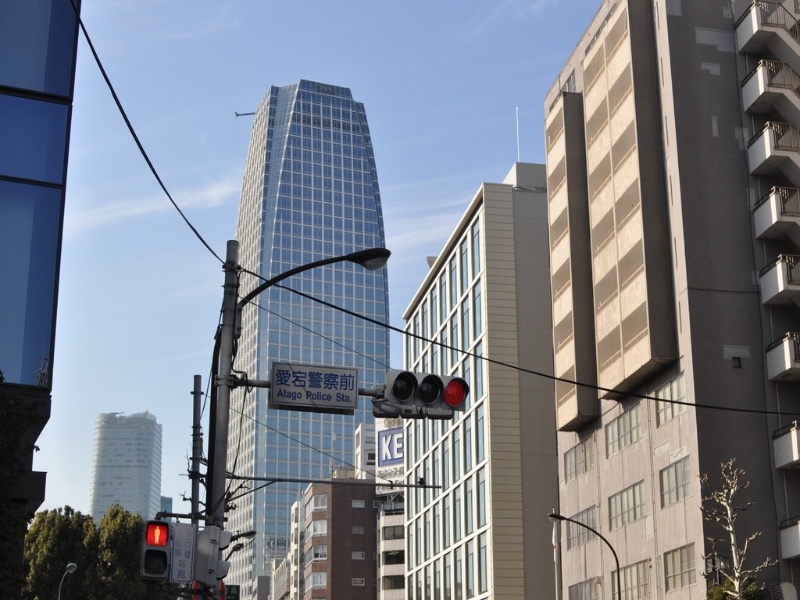pedestrian_crossing_red: (145, 517, 175, 548)
red_light: (444, 371, 473, 412)
